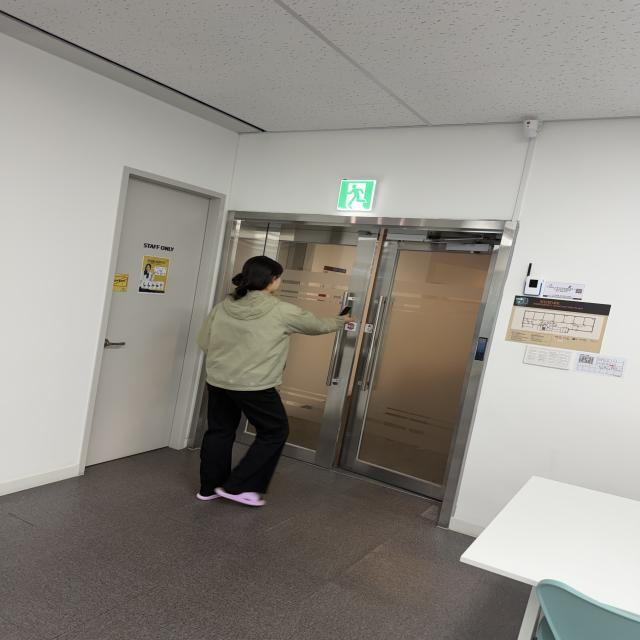rear_door: (222, 222, 502, 502)
